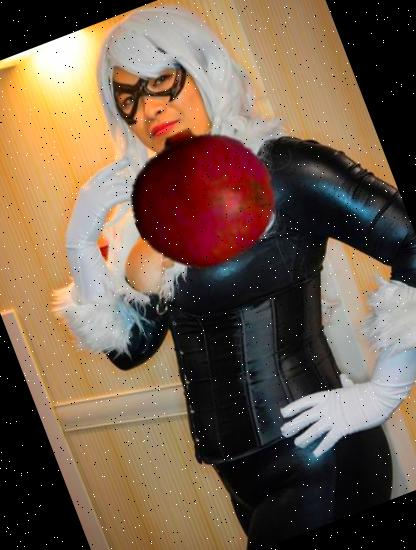Pomegranate: (108, 104, 294, 290)
